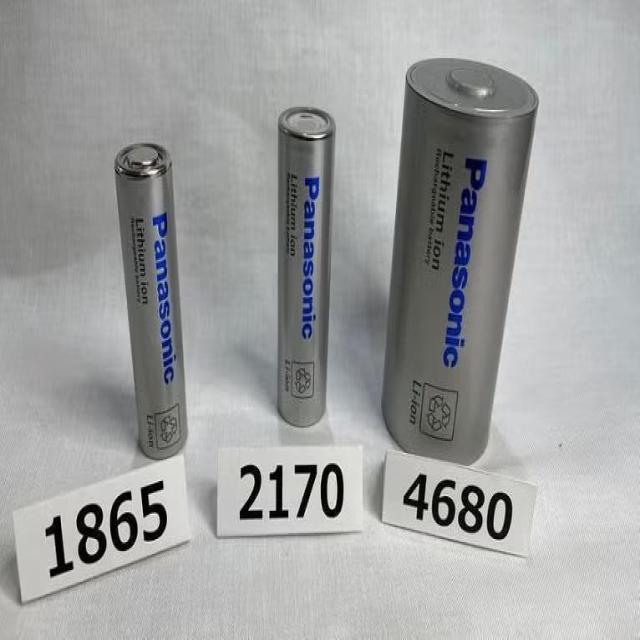AA: (112, 136, 192, 468), (276, 103, 336, 434)
